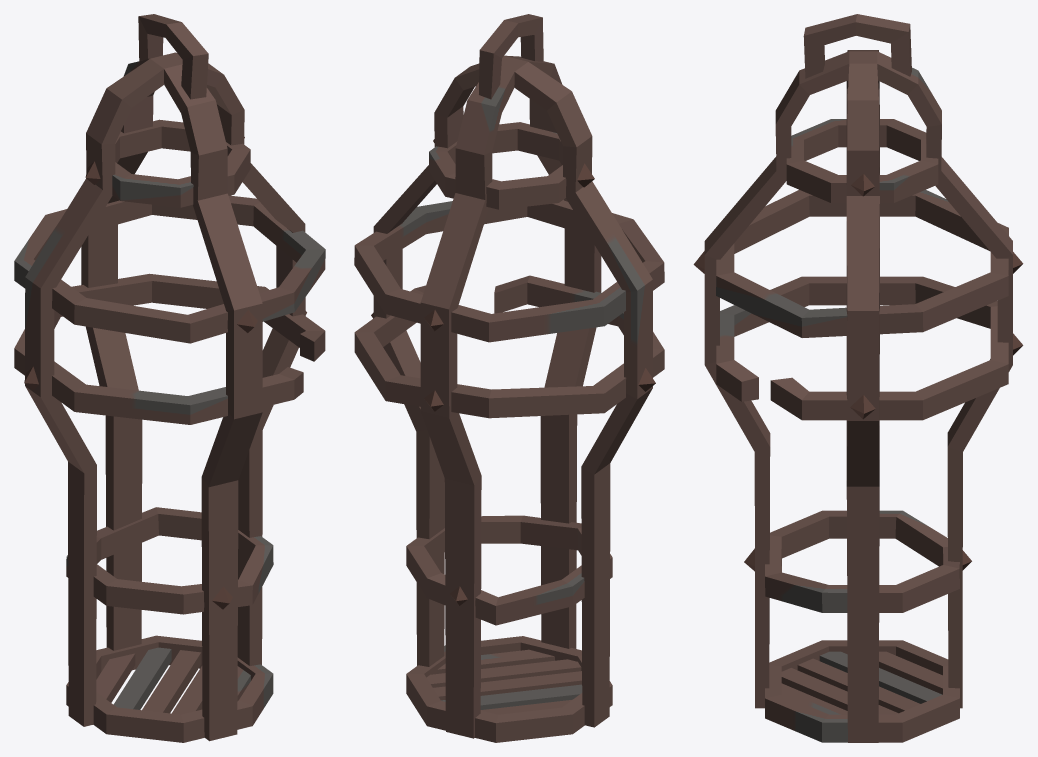
File: SM_Prop_Prisoner_Cage_02.fbx
3 views of the same model, side by side, from view 1: azimuth 30°, elevation 25°; view 2: azimuth 150°, elevation 25°; view 3: azimuth 270°, elevation 25° (orthographic).
Visible parts, largest first — view 1: SM_Prop_Prisoner_Cage_02; view 2: SM_Prop_Prisoner_Cage_02; view 3: SM_Prop_Prisoner_Cage_02.
Part boxes in pixels (bbox=[...]): SM_Prop_Prisoner_Cage_02: bbox=[14, 14, 325, 742]; SM_Prop_Prisoner_Cage_02: bbox=[354, 14, 664, 742]; SM_Prop_Prisoner_Cage_02: bbox=[693, 14, 1023, 742].
Size of the model in its own units: 91.16 by 208 by 90.71.
